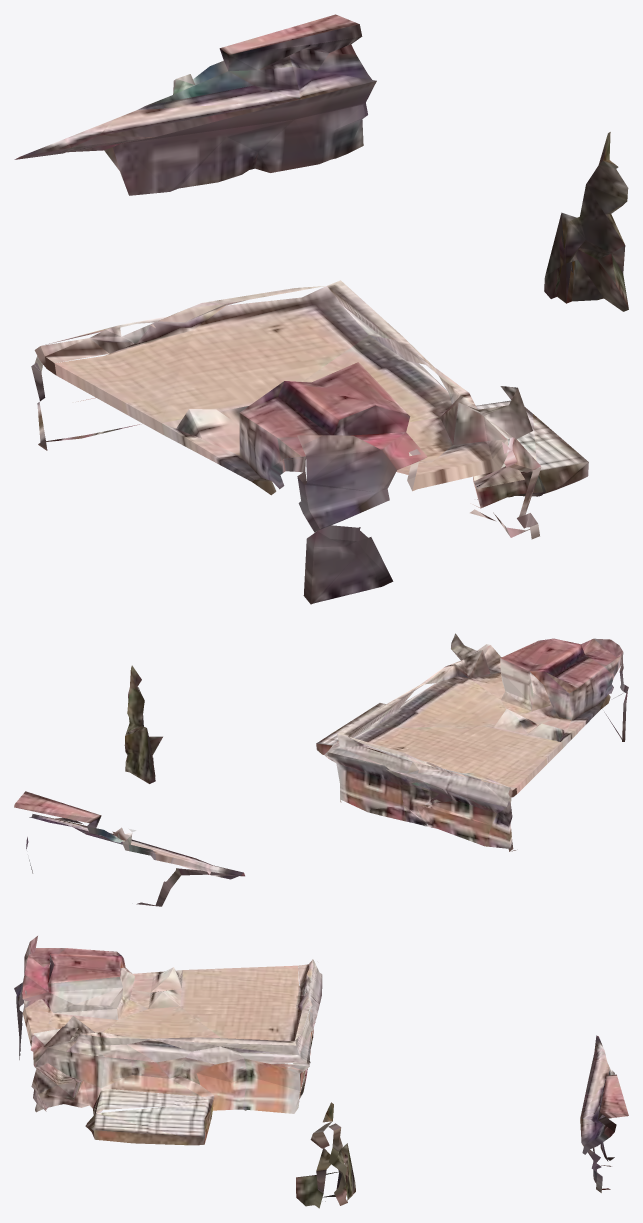
3 renders of one model, top to bottom at view 1: azimuth 30°, elevation 25°; view 2: azimuth 150°, elevation 25°; view 3: azimuth 270°, elevation 25°, orthographic. The views are drawn at different scales.
Parts seen in each view (by area): view 1: Mesh_0; view 2: Mesh_0; view 3: Mesh_0.
Boxes of the visible parts, left/top/right/bottom form: Mesh_0: left=14, top=14, right=628, bottom=604; Mesh_0: left=14, top=633, right=628, bottom=906; Mesh_0: left=14, top=936, right=628, bottom=1208.
Size of the model in its own units: 29.67 by 7.92 by 41.49.
Materials: 1 (1 with a texture image).
